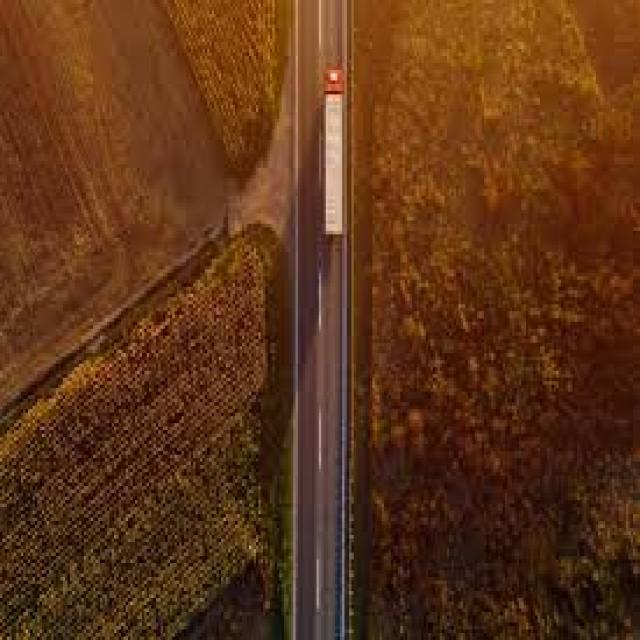truck: (323, 61, 348, 240)
